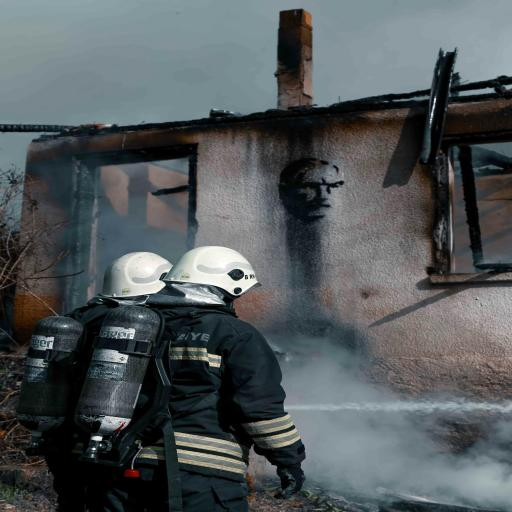smoke: (120, 228, 512, 511)
